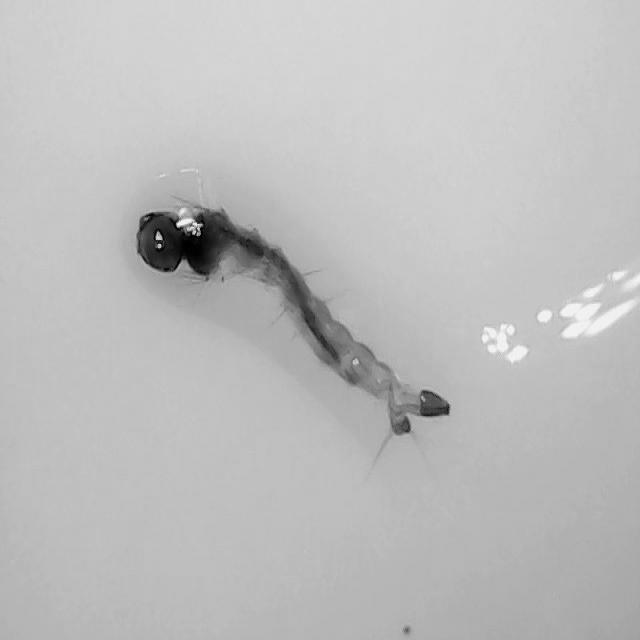larvas: (137, 205, 450, 432)
